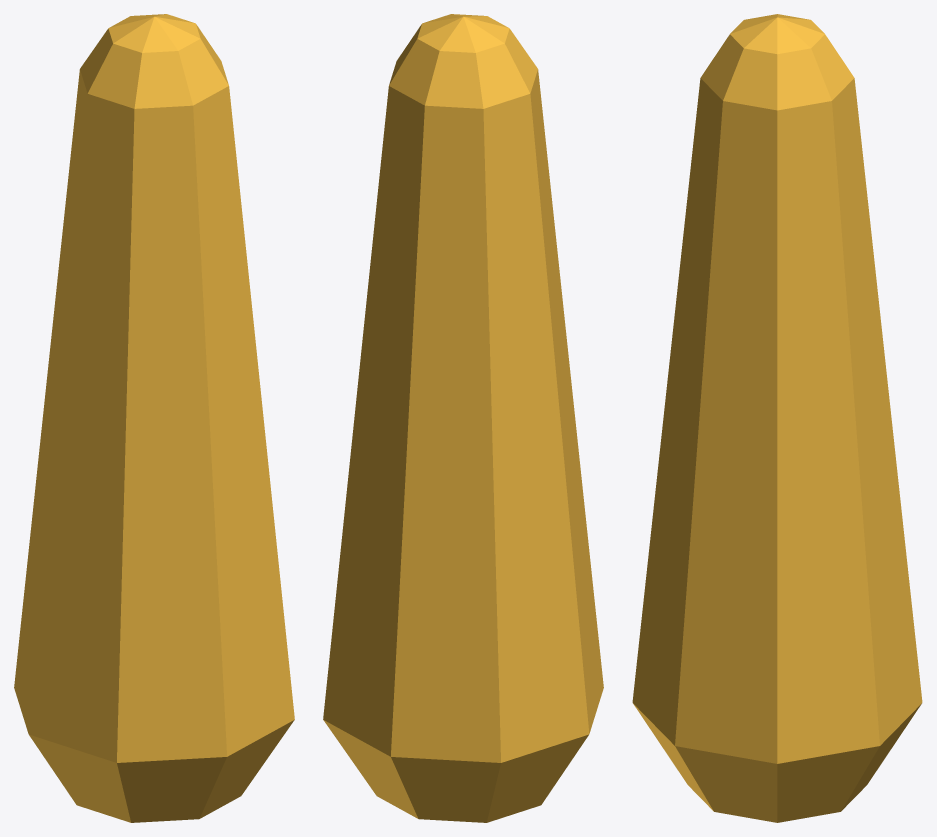
Rendered from Mortero.fbx.
The picture shows the model from 3 angles, left to right: view 1: azimuth 30°, elevation 25°; view 2: azimuth 150°, elevation 25°; view 3: azimuth 270°, elevation 25°; orthographic projection.
Visible parts, largest first — view 1: Mortero; view 2: Mortero; view 3: Mortero.
Boxes of the visible parts, <box> form: Mortero: <box>14,14,294,822</box>; Mortero: <box>323,14,603,822</box>; Mortero: <box>632,14,922,822</box>.
Size of the model in its own units: 83.32 by 253 by 83.32.
